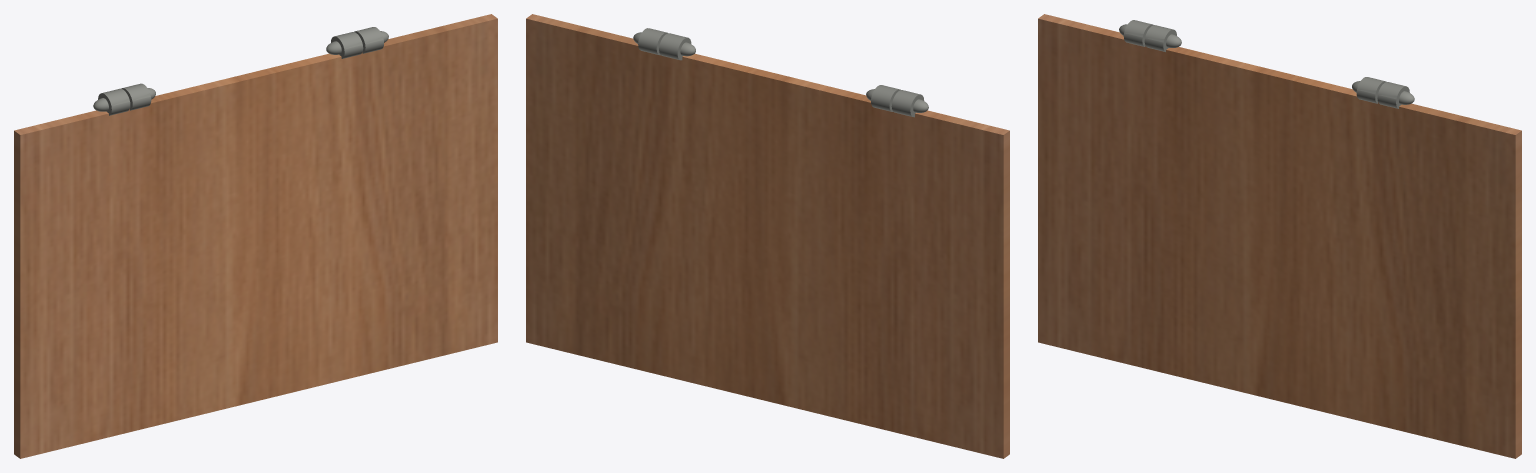
File: puertita.obj
3 renders of one model, left to right at view 1: azimuth 30°, elevation 25°; view 2: azimuth 150°, elevation 25°; view 3: azimuth 330°, elevation 25°, orthographic.
Visible parts, largest first — view 1: cuarto:cuarto:polySurface7547; view 2: cuarto:cuarto:polySurface7547; view 3: cuarto:cuarto:polySurface7547.
Boxes of the visible parts, x1=… form: cuarto:cuarto:polySurface7547: x1=14, y1=14, x2=497, y2=458; cuarto:cuarto:polySurface7547: x1=526, y1=14, x2=1009, y2=458; cuarto:cuarto:polySurface7547: x1=1038, y1=14, x2=1521, y2=458.
Bounding box in the file's own units: 1.35 × 0.9169 × 0.0678.
2 materials, 2 textured.
